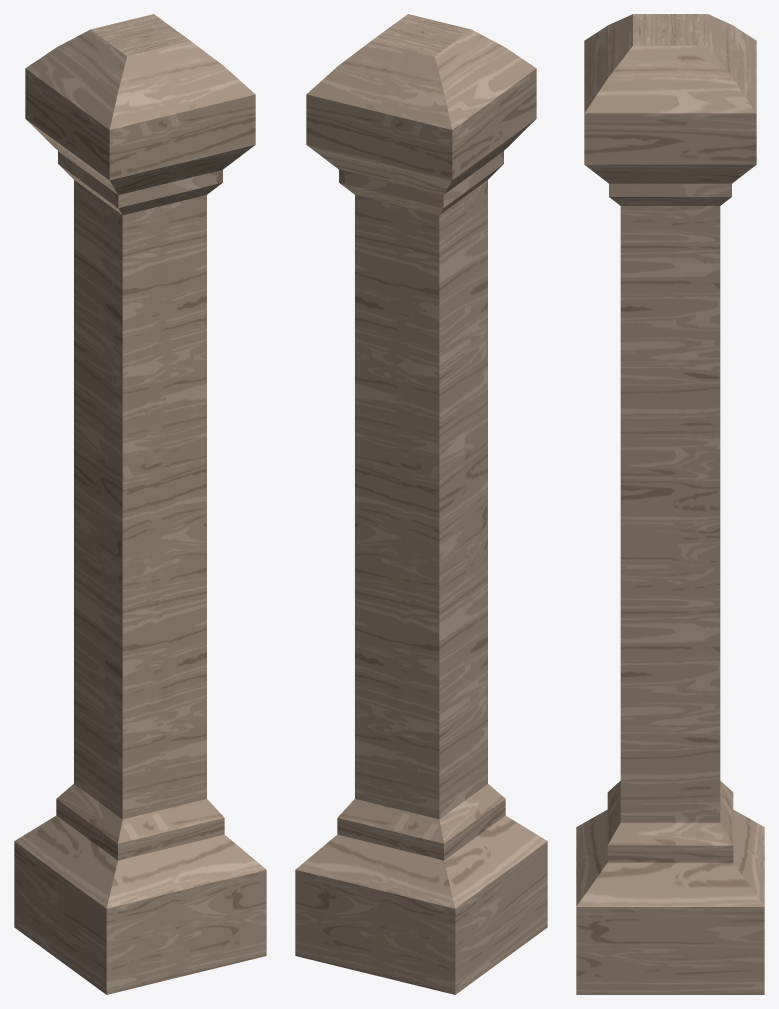
Rendered from fenceEnd.fbx.
3 views of the same model, side by side, from view 1: azimuth 30°, elevation 25°; view 2: azimuth 150°, elevation 25°; view 3: azimuth 270°, elevation 25° (orthographic). The views are drawn at different scales.
Visible parts, largest first — view 1: pCube17; view 2: pCube17; view 3: pCube17.
Boxes of the visible parts, bbox=[...] form: pCube17: bbox=[14, 14, 266, 994]; pCube17: bbox=[295, 14, 547, 994]; pCube17: bbox=[576, 14, 764, 994].
Bounding box in the file's own units: 1.67 × 9.04 × 1.67.
Materials: 1 (1 with a texture image).
